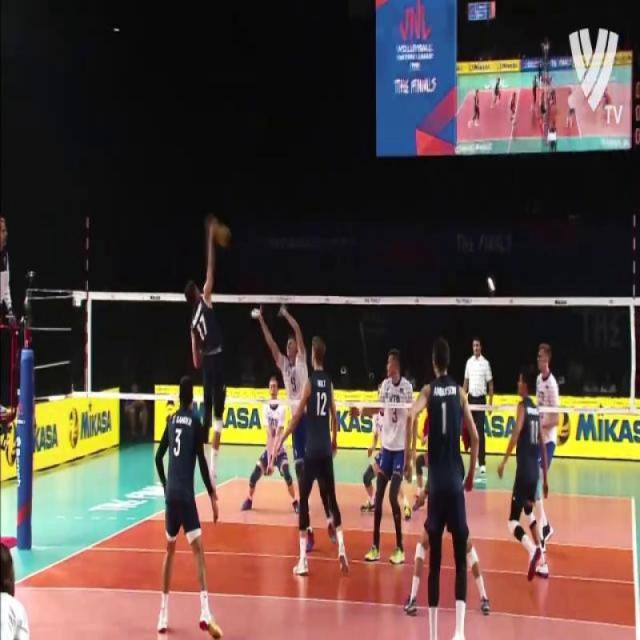volleyball: (212, 222, 235, 250), (4, 422, 18, 466), (68, 405, 80, 452)
